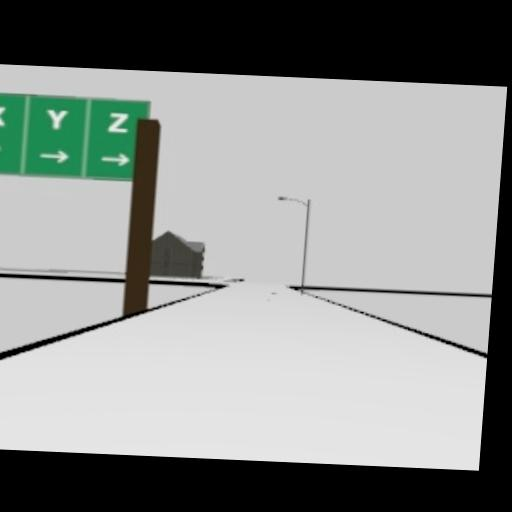Right: (99, 151, 130, 166), (39, 149, 70, 163)
X: (0, 105, 6, 126)
Y: (45, 108, 68, 129)
Z: (107, 111, 128, 132)
